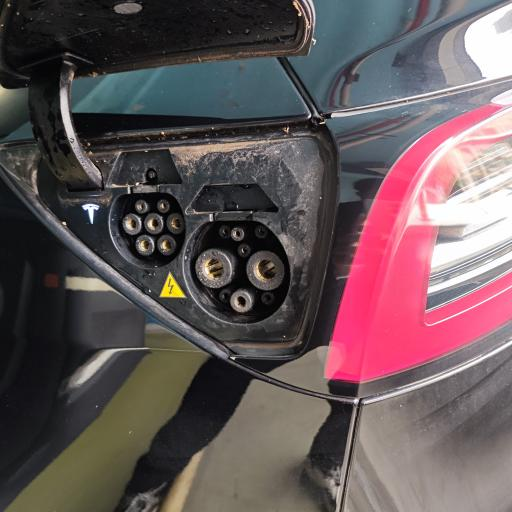AC_charging_hole: (106, 190, 188, 271)
DC_charging_port: (182, 216, 295, 328)
DC_hole: (194, 246, 235, 290), (246, 250, 286, 291)
PE: (230, 290, 253, 313)
